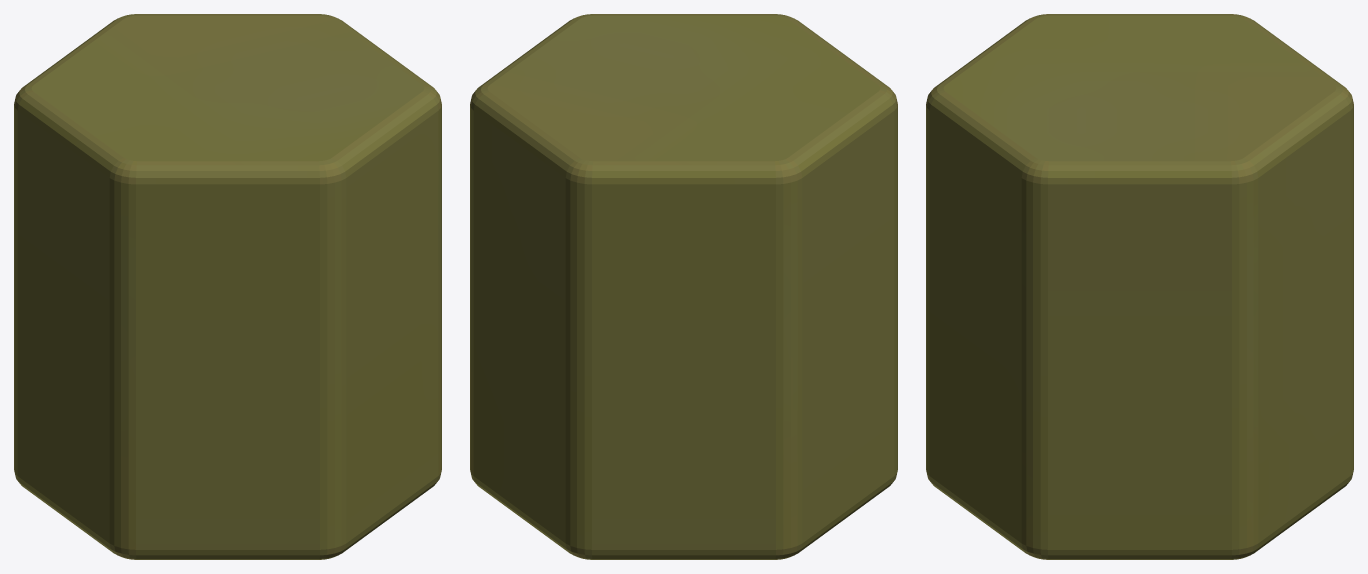
File: drawer5.glb
The picture shows the model from 3 angles, left to right: view 1: azimuth 30°, elevation 25°; view 2: azimuth 150°, elevation 25°; view 3: azimuth 270°, elevation 25°; orthographic projection.
Visible parts, largest first — view 1: Cylinder; view 2: Cylinder; view 3: Cylinder.
Boxes of the visible parts, x1,y1,x2,y2 form: Cylinder: [14, 14, 441, 559]; Cylinder: [470, 14, 897, 559]; Cylinder: [926, 14, 1353, 559].
Size of the model in its own units: 1.73 by 2 by 1.95.
Materials: 1 (1 with a texture image).
